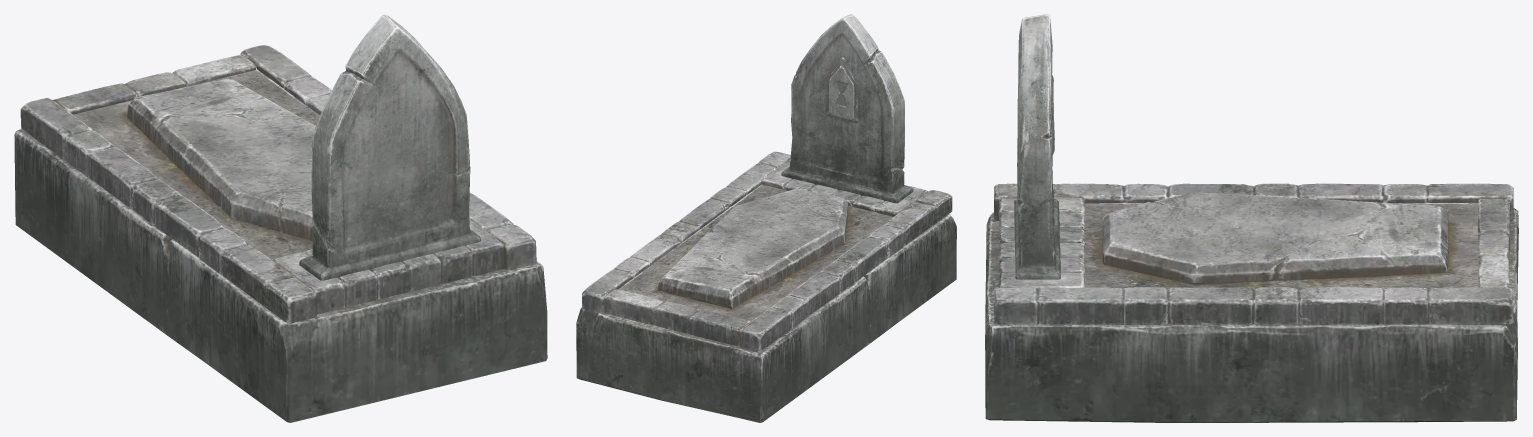
3 renders of one model, left to right at view 1: azimuth 30°, elevation 25°; view 2: azimuth 150°, elevation 25°; view 3: azimuth 270°, elevation 25°, orthographic. The views are drawn at different scales.
Parts seen in each view (by area): view 1: SM_Tombstone_Stone_03v1_LOD0; view 2: SM_Tombstone_Stone_03v1_LOD0; view 3: SM_Tombstone_Stone_03v1_LOD0.
Boxes of the visible parts, bbox=[...] form: SM_Tombstone_Stone_03v1_LOD0: bbox=[14, 14, 547, 422]; SM_Tombstone_Stone_03v1_LOD0: bbox=[576, 14, 956, 422]; SM_Tombstone_Stone_03v1_LOD0: bbox=[985, 14, 1518, 422].
Size of the model in its own units: 2.02 by 2.64 by 3.67.
3 materials, 3 textured.
